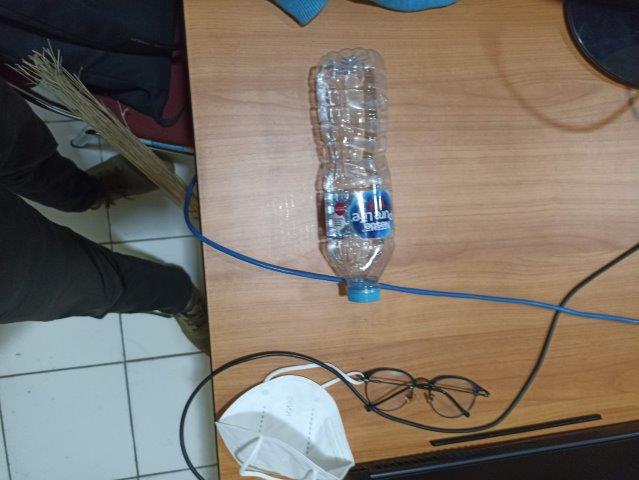botolplastik: (319, 47, 395, 301)
